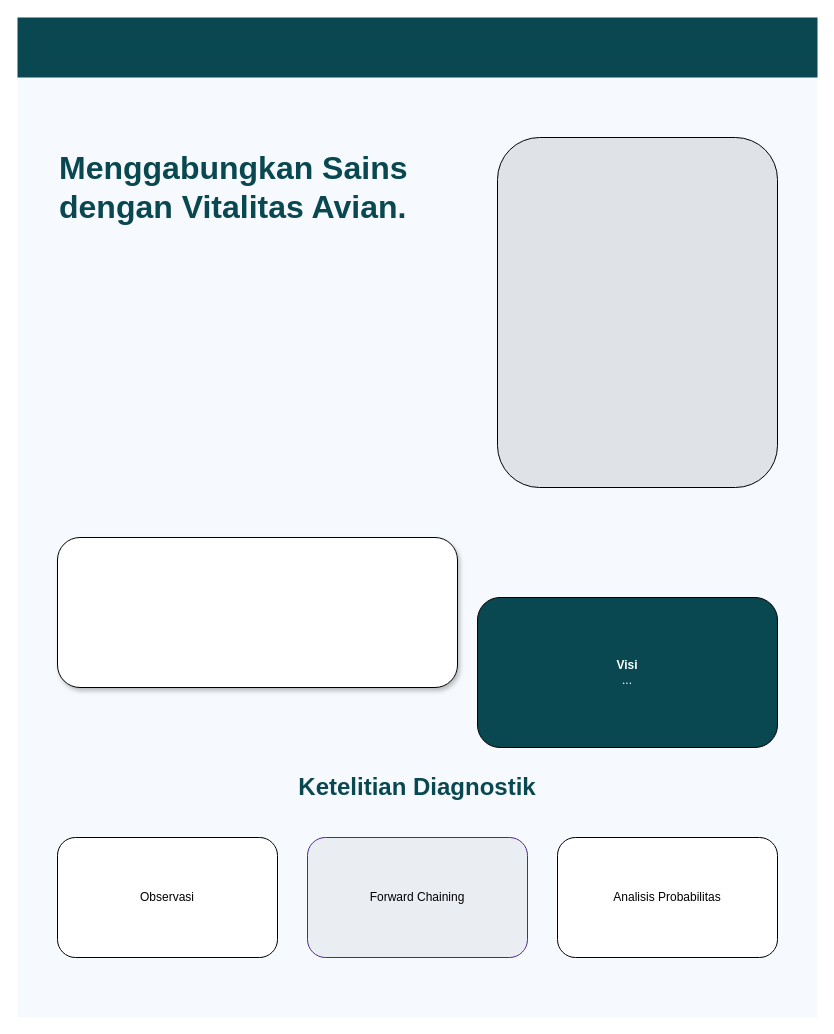
Some shapes in this 834 by 1034 pixel diagram are drawn without their labels. The centre of each missing label's shape, as x and y in pixels:
Image: the point at 637,312
Misi Kami ...: the point at 258,613
